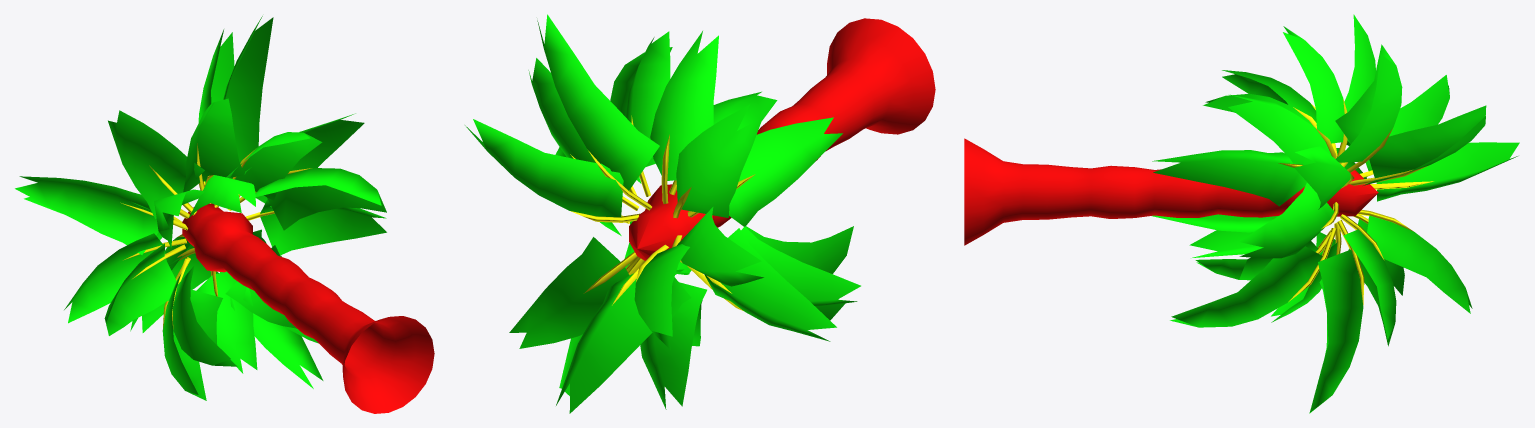
The model's file is M_P10_Tree_2.FBX.
3 views of the same model, side by side, from view 1: azimuth 30°, elevation 25°; view 2: azimuth 150°, elevation 25°; view 3: azimuth 270°, elevation 25° (orthographic). The views are drawn at different scales.
Visible parts, largest first — view 1: M_P10_Tree_2_LOD0; view 2: M_P10_Tree_2_LOD0; view 3: M_P10_Tree_2_LOD0.
Part boxes in pixels (x1,y1,x2,y2): M_P10_Tree_2_LOD0: (15,16,434,413); M_P10_Tree_2_LOD0: (465,14,935,413); M_P10_Tree_2_LOD0: (964,14,1519,413).
Bounding box in the file's own units: 261 × 436 × 313.
